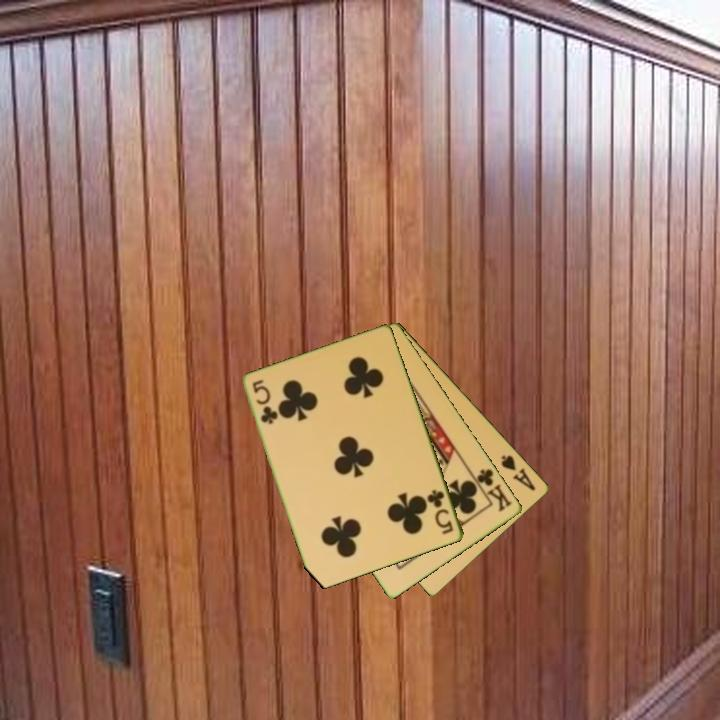5c: (424, 486, 457, 537), (249, 376, 280, 427)
As: (498, 451, 539, 494)
Kc: (469, 465, 516, 515)
